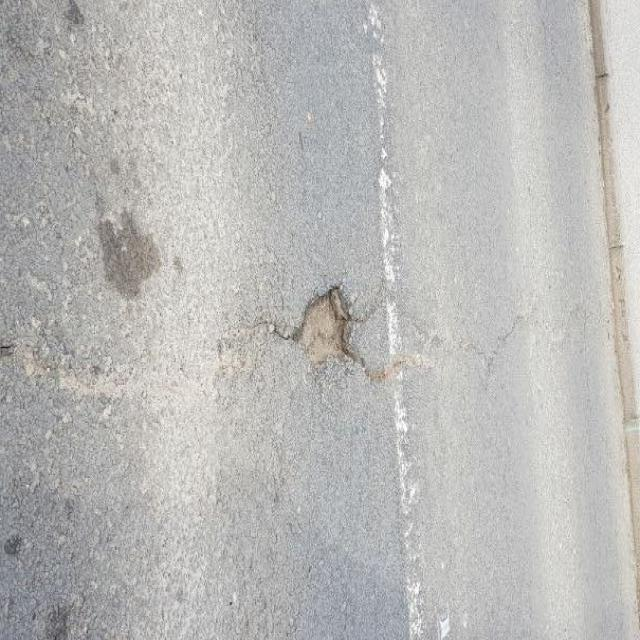Pothole: (274, 279, 373, 371)
